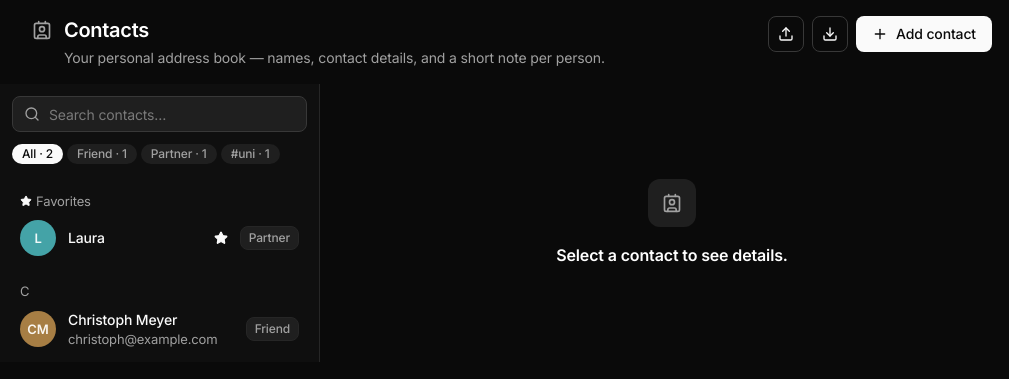
it: ContactsView (master–detail) › filters by relationship chips (toggle on/off)
Expected: the text "Christoph Meyer" is shown, [68,311,177,328]
Click the button "Partner · 1": (179, 154) [141,144,217,164]
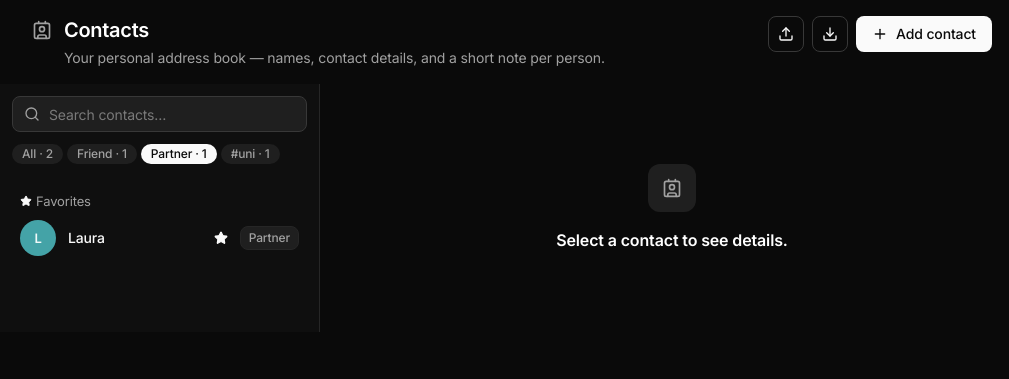
Expected: the text "Laura" is shown, [68,229,105,246]
Expected: the button "Christoph Meyer" is gone
Clicking the active chip again clears the filter.
Click the button "Partner · 1": (179, 154) [141,144,217,164]
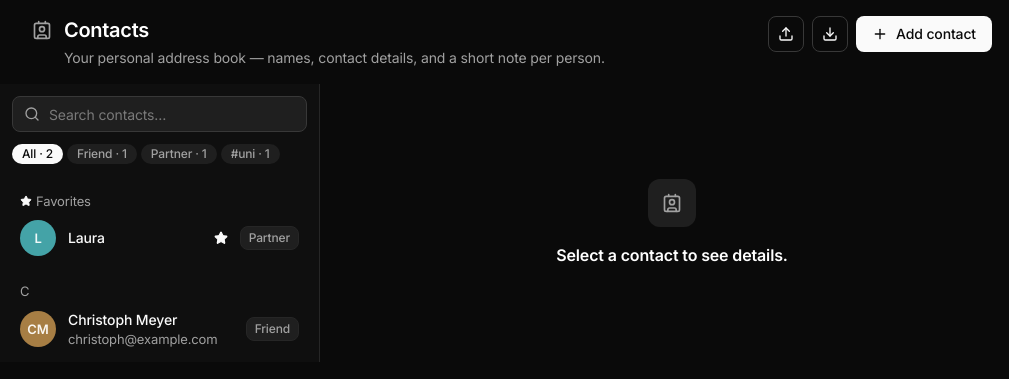
Expected: the text "Christoph Meyer" is shown, [68,311,177,328]
